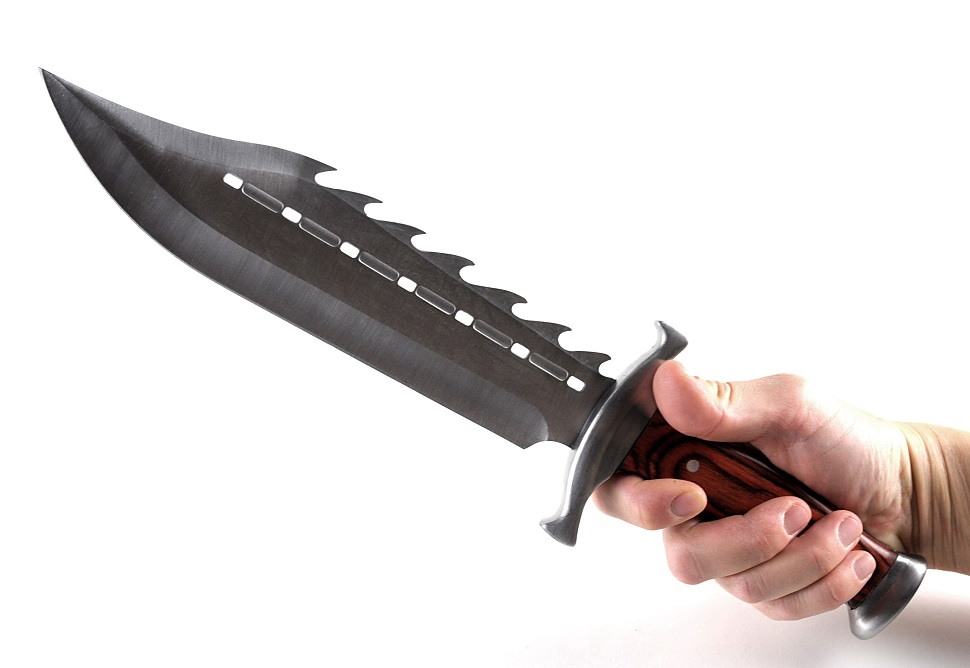knife: (28, 54, 936, 655)
